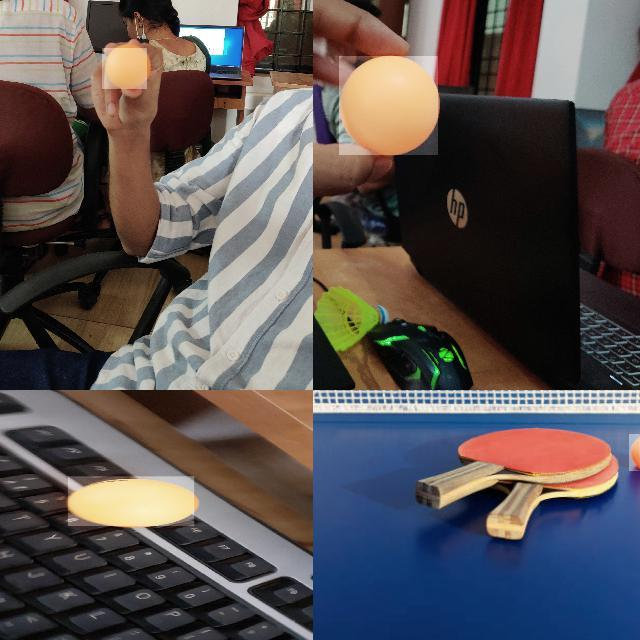ping-pong-ball: (339, 56, 439, 156), (68, 476, 195, 526), (102, 48, 148, 90), (629, 433, 639, 473)
